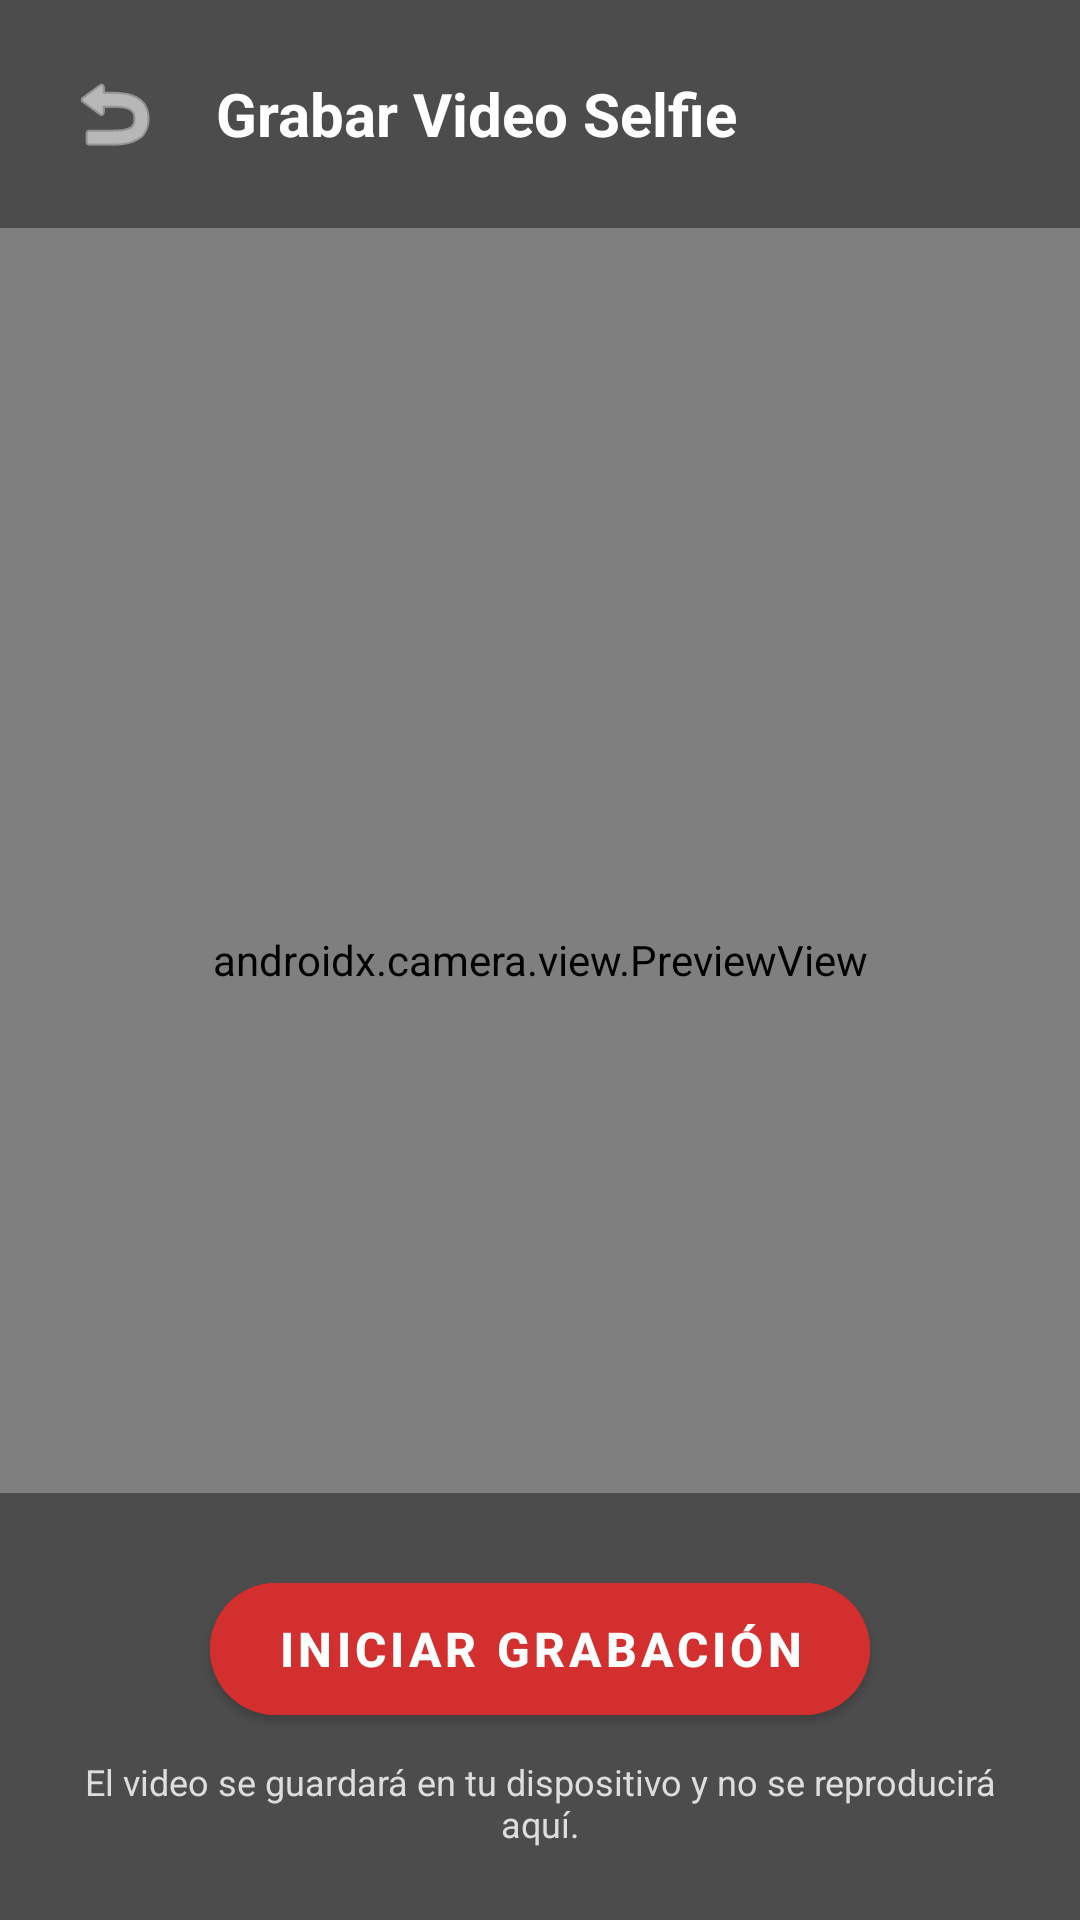

Screen size 1080x1920. Icon name, then its box in pixels as [x1,y1,x2,y2]:
Atrás: [81,83,150,146]
